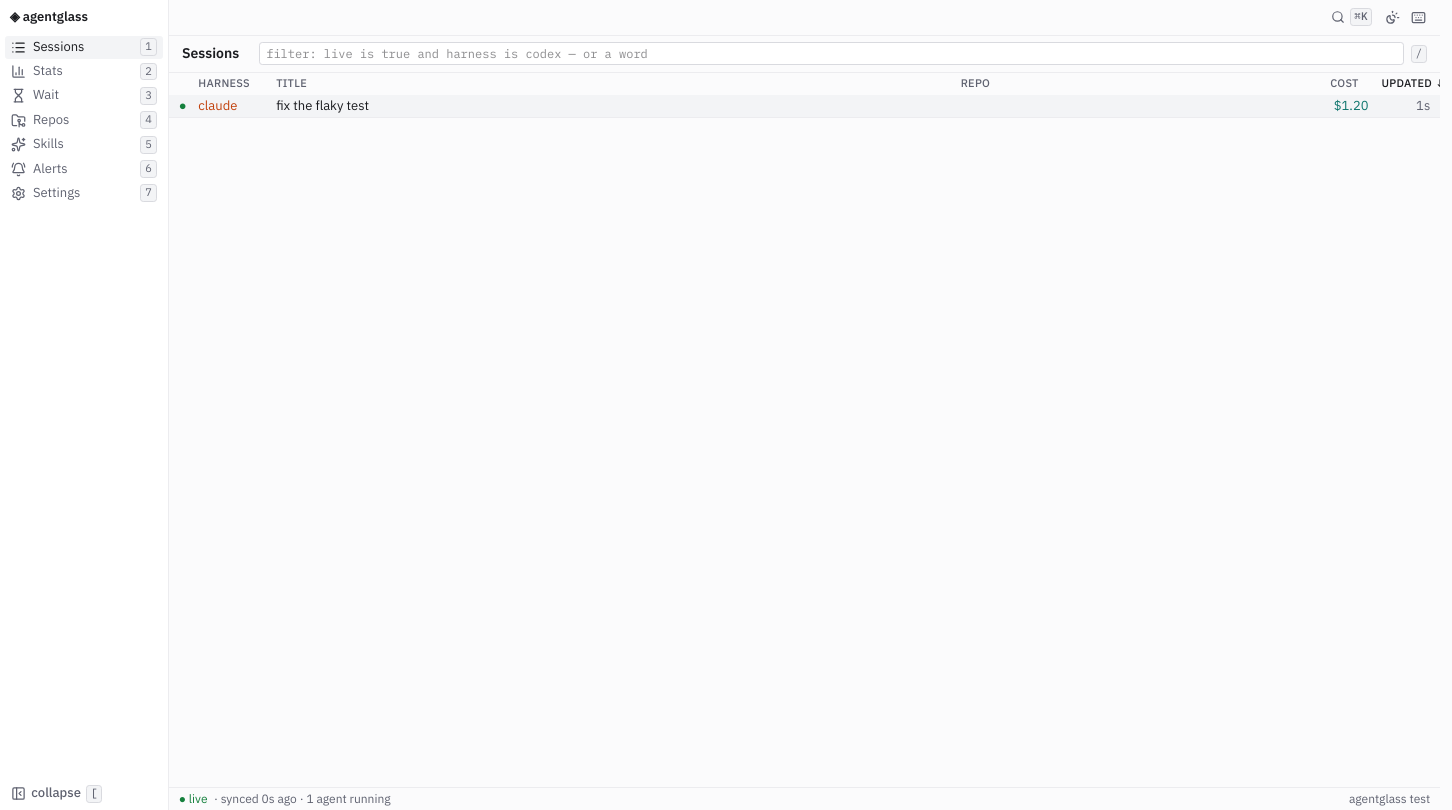
Test case: storage that throws breaks nothing
Click the button with aria-label "Collapse the sidebar" at (84, 794), box 5,782 -> 163,805
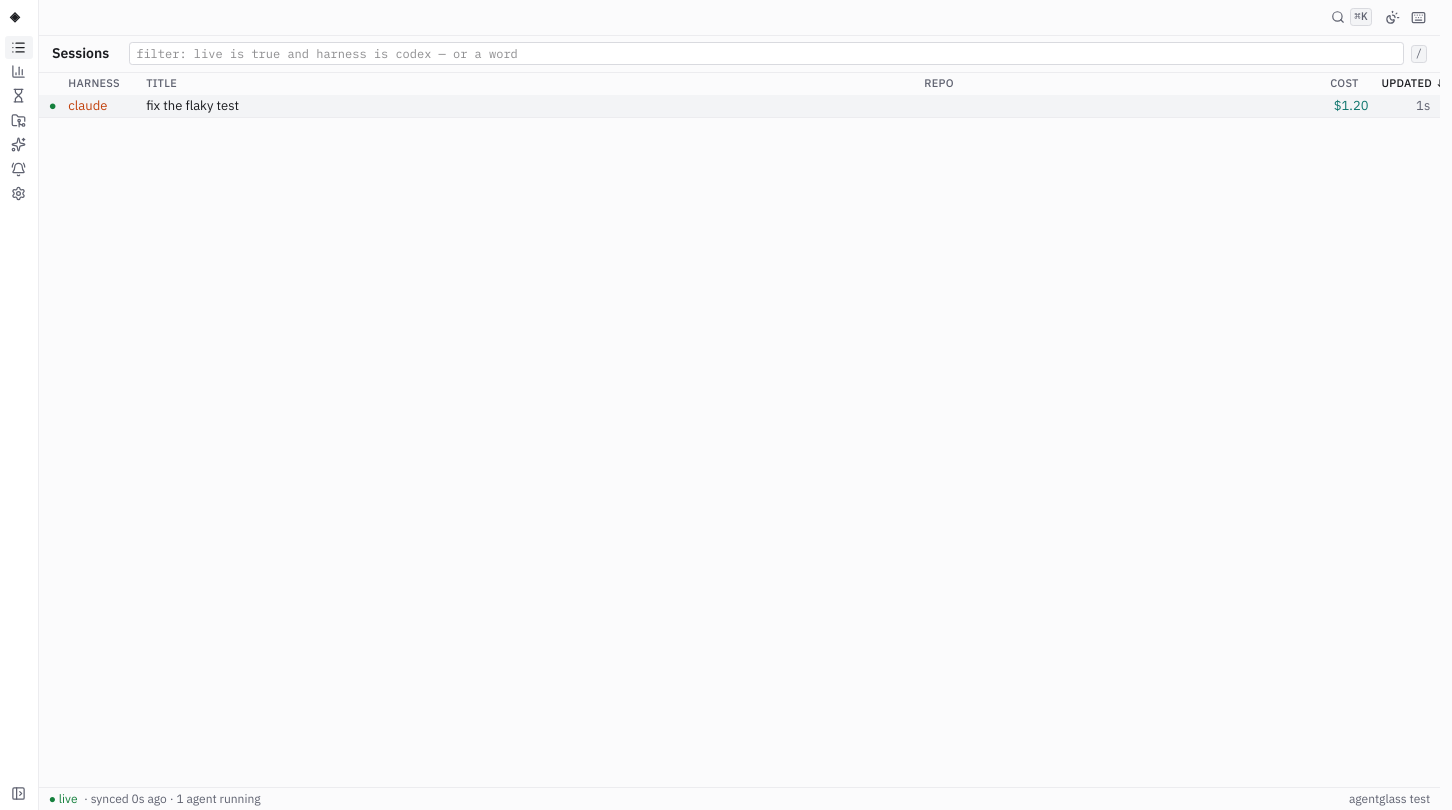
Now the button named "Expand the sidebar" is shown, box 5,782 -> 33,805
